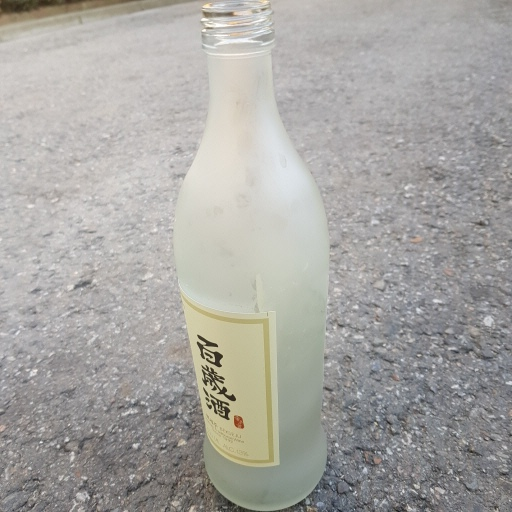Glass_0: (174, 1, 332, 508)
